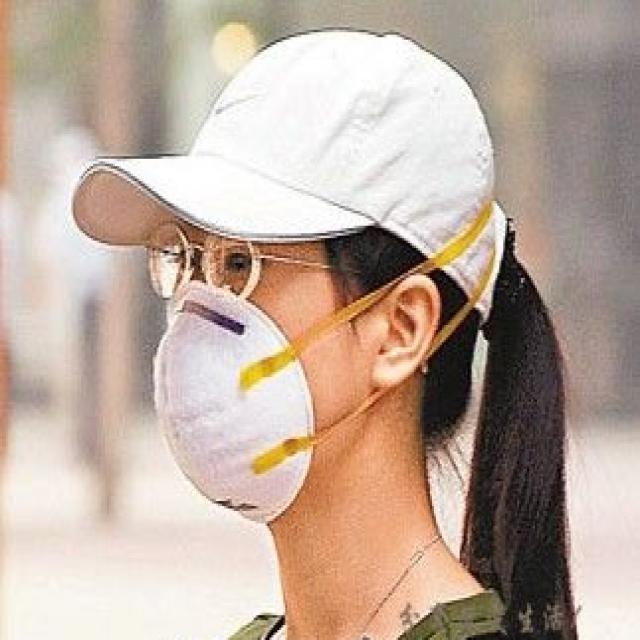mask: (150, 156, 340, 518)
